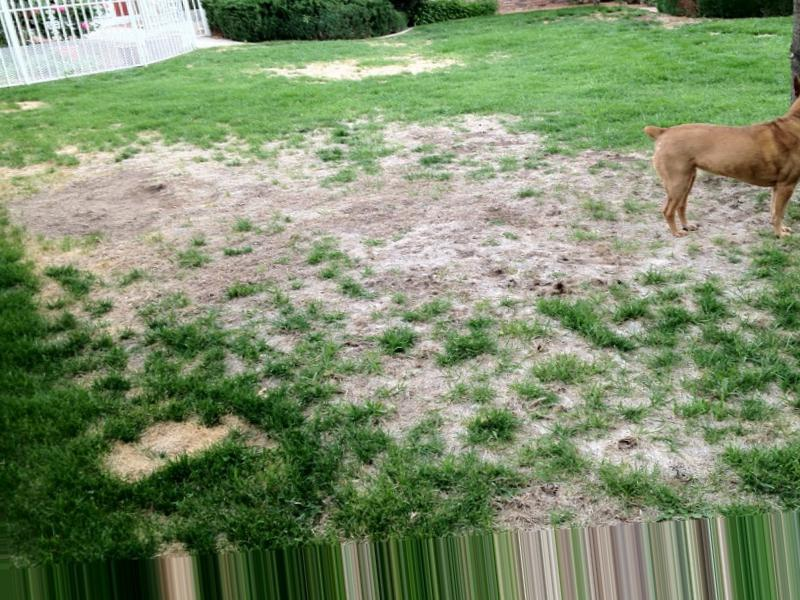patch: (224, 169, 385, 280), (544, 416, 704, 508), (43, 161, 212, 239), (390, 190, 491, 288), (399, 117, 515, 179), (351, 366, 476, 420), (60, 265, 157, 330), (310, 292, 412, 352), (504, 201, 578, 279), (208, 297, 287, 360), (282, 51, 425, 77), (122, 432, 189, 468)
